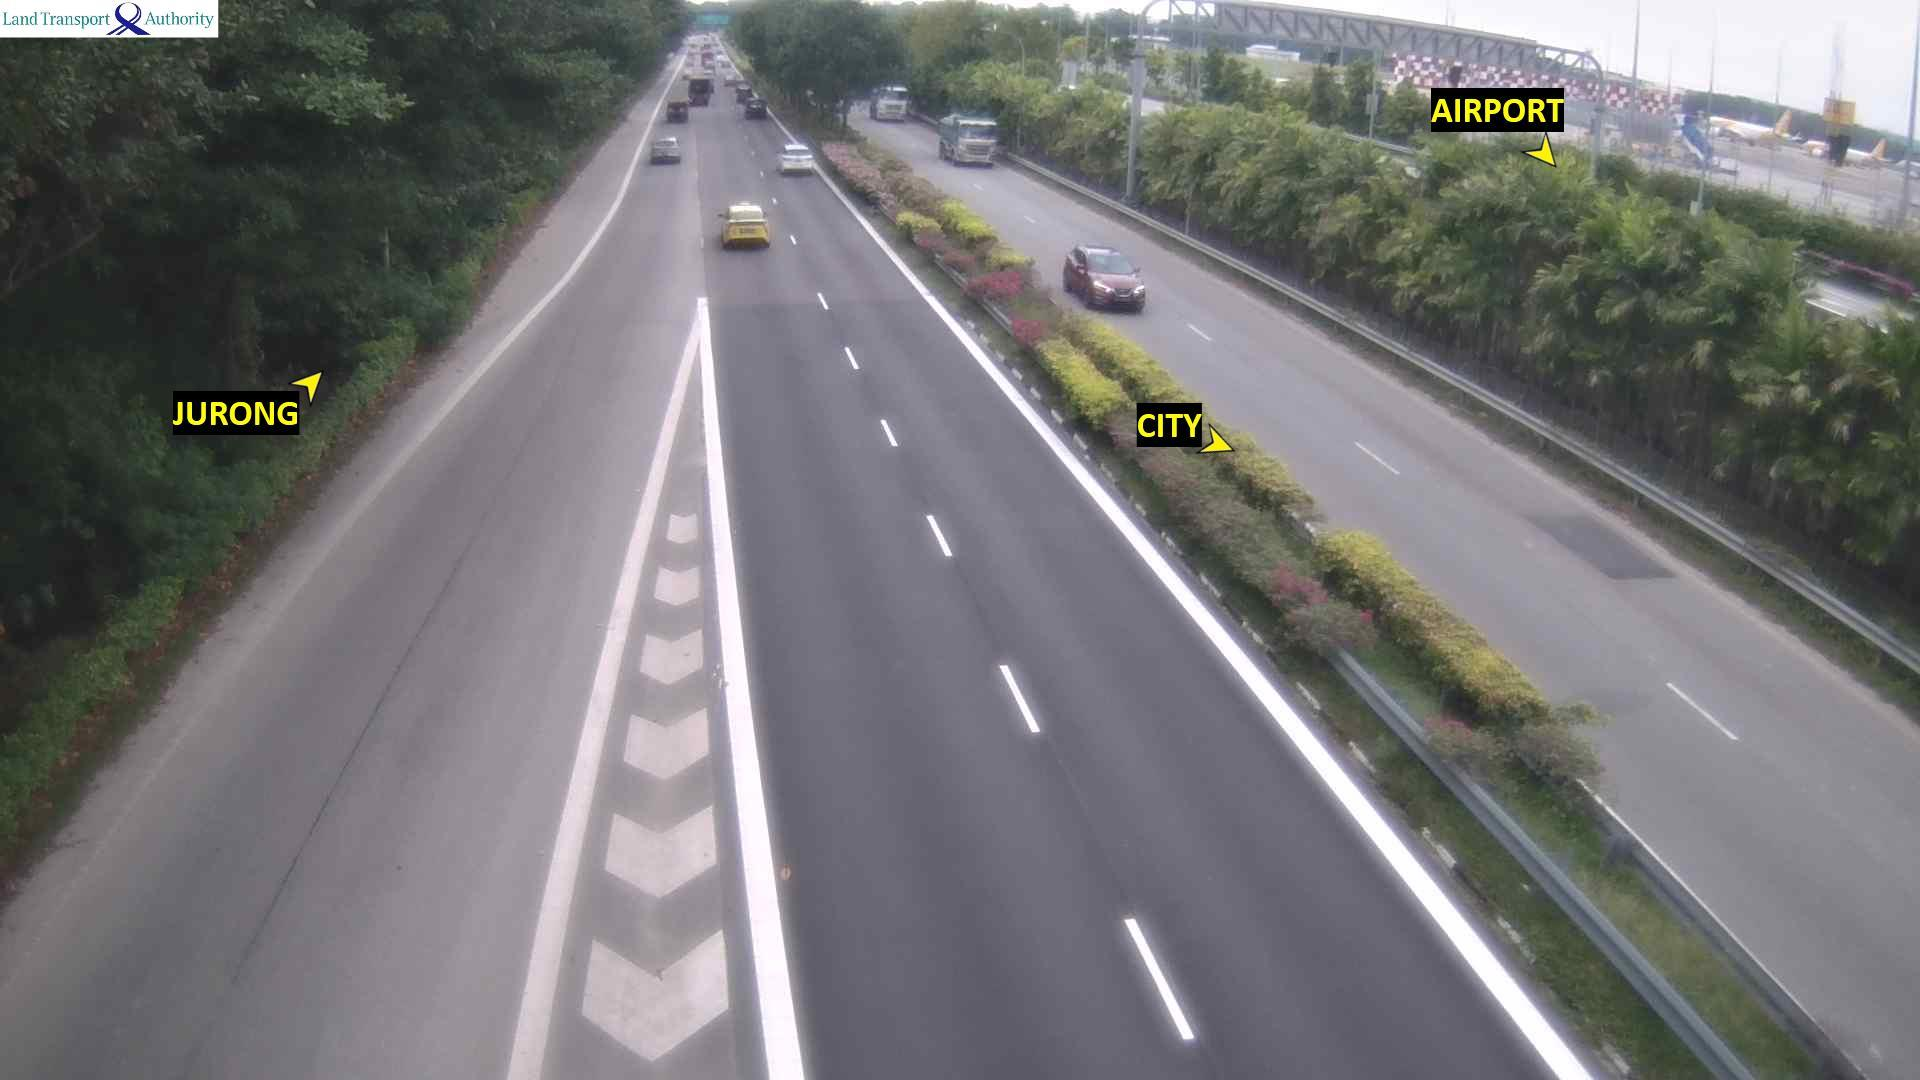incoming: (1075, 251, 1147, 315), (949, 119, 1002, 171), (868, 83, 912, 125)
